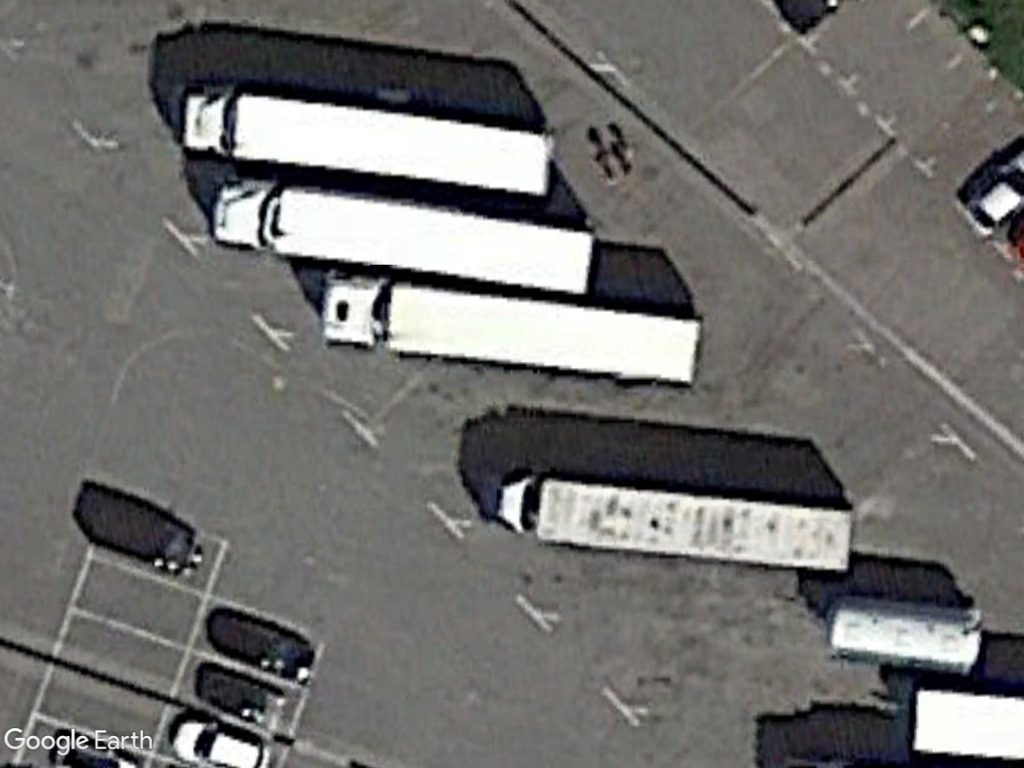longvehicle: (171, 74, 563, 203), (209, 170, 596, 299), (317, 266, 704, 390), (493, 463, 858, 582)
